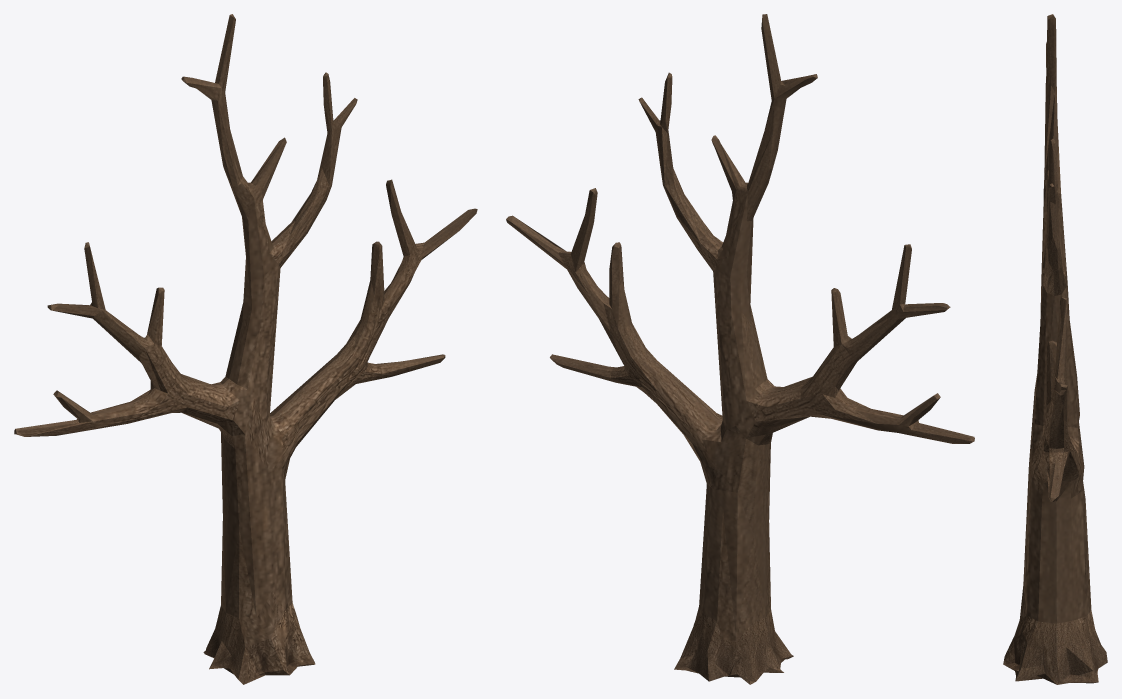
The picture shows the model from 3 angles, left to right: view 1: azimuth 30°, elevation 25°; view 2: azimuth 150°, elevation 25°; view 3: azimuth 270°, elevation 25°; orthographic projection. The views are drawn at different scales.
Parts seen in each view (by area): view 1: output_unwrapped; view 2: output_unwrapped; view 3: output_unwrapped.
Part boxes in pixels (x1,y1,x2,y2): output_unwrapped: (14, 14, 477, 684); output_unwrapped: (506, 14, 974, 684); output_unwrapped: (1003, 14, 1107, 684).
Bounding box in the file's own units: 1.48 × 2 × 0.2971.
Materials: 1 (1 with a texture image).
